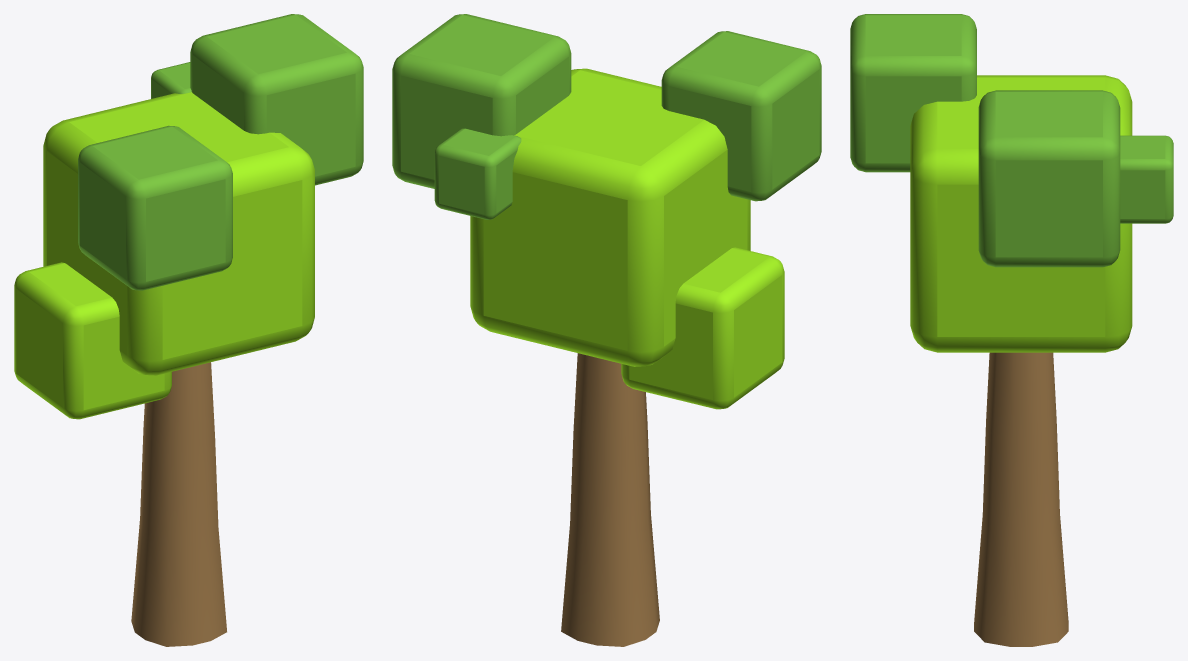
Rendered from IDG_ST_TREE.fbx.
3 renders of one model, left to right at view 1: azimuth 30°, elevation 25°; view 2: azimuth 150°, elevation 25°; view 3: azimuth 270°, elevation 25°, orthographic. The views are drawn at different scales.
Visible parts, largest first — view 1: IGD_ST_TREE; view 2: IGD_ST_TREE; view 3: IGD_ST_TREE.
Part boxes in pixels (x1,y1,x2,y2): IGD_ST_TREE: (14,14,363,646); IGD_ST_TREE: (392,14,821,646); IGD_ST_TREE: (850,14,1173,646).
Size of the model in its own units: 526 by 879 by 453.
